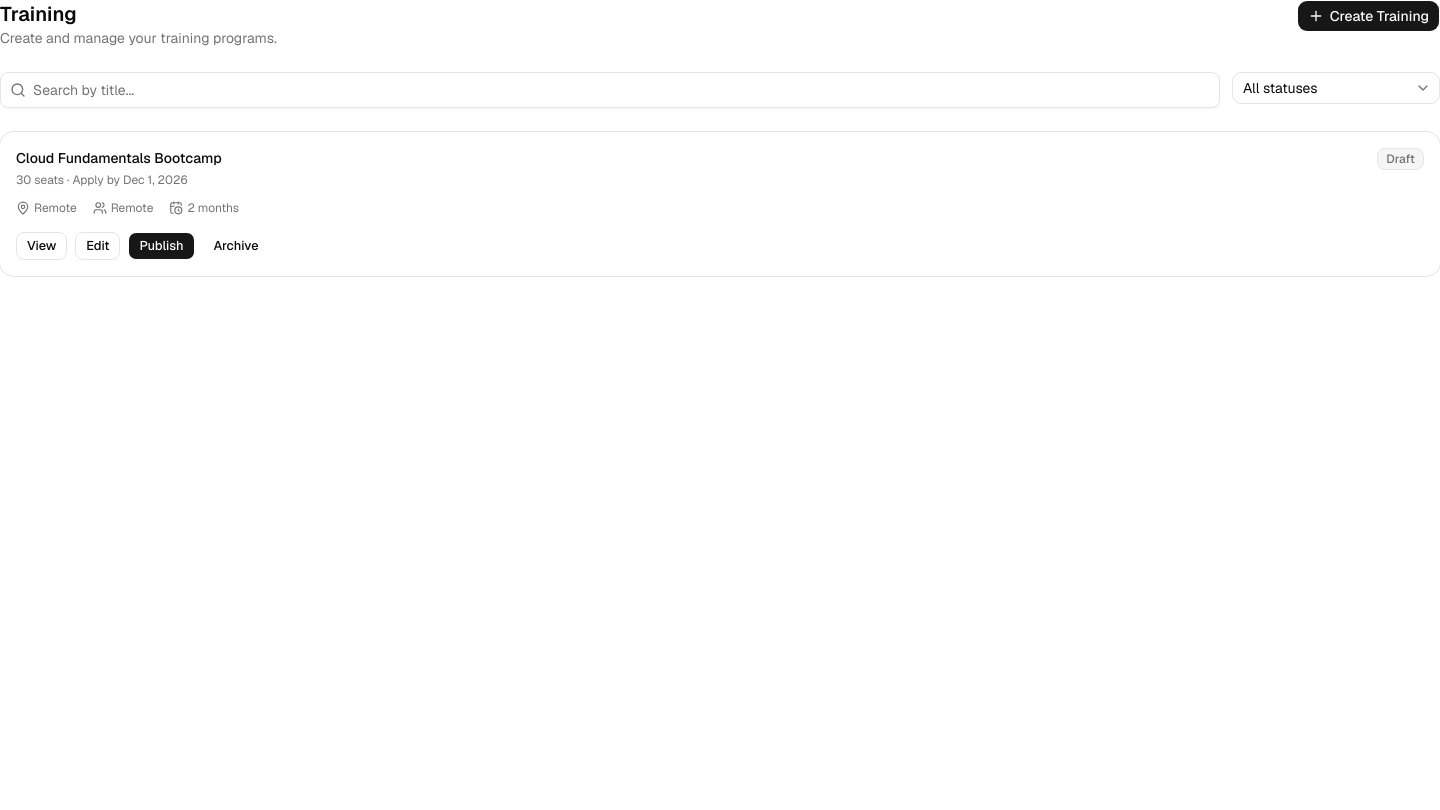
it: TrainingsListView › surfaces a publish error from the API
The width and height of the screenshot is (1440, 810).
Expected: the link "Cloud Fundamentals Bootcamp" is shown, left=16, top=148, right=222, bottom=168
Click the button "Publish". click: [162, 246]
box: left=128, top=232, right=195, bottom=260
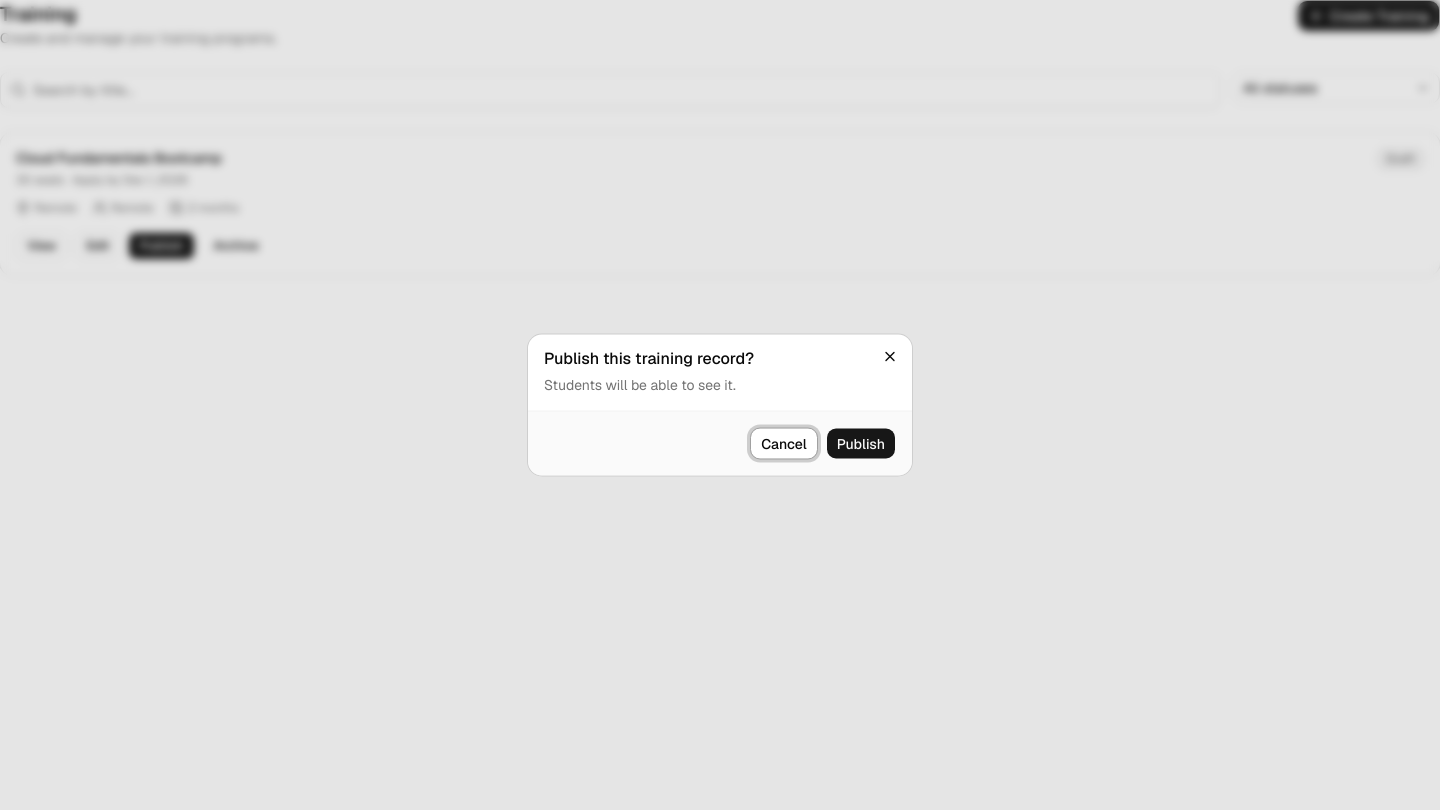
Click the button "Publish". click: [861, 444]
box: left=826, top=428, right=896, bottom=460
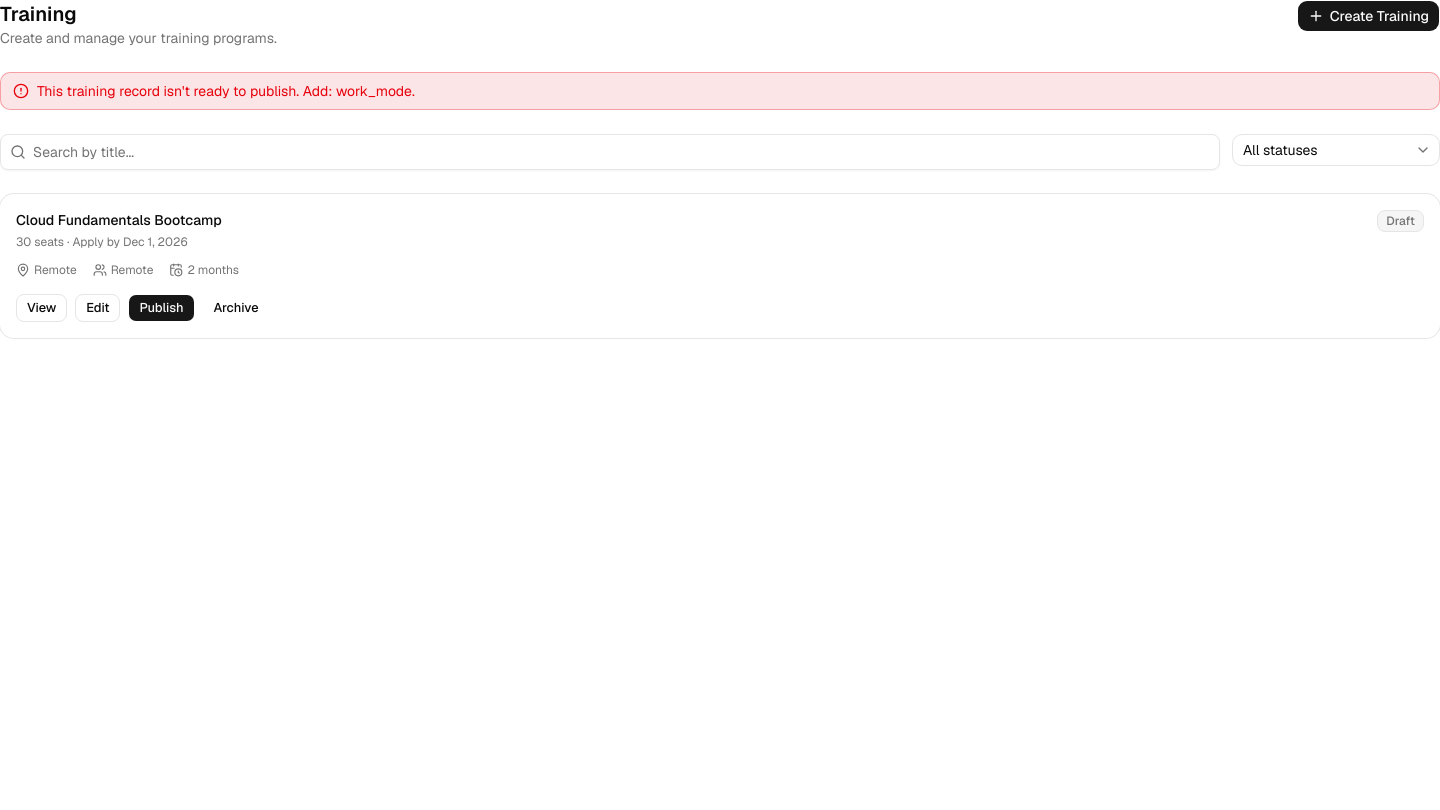
Result: the text "This training record isn't ready to publish. Add: work_mode." is shown at left=37, top=81, right=415, bottom=101
